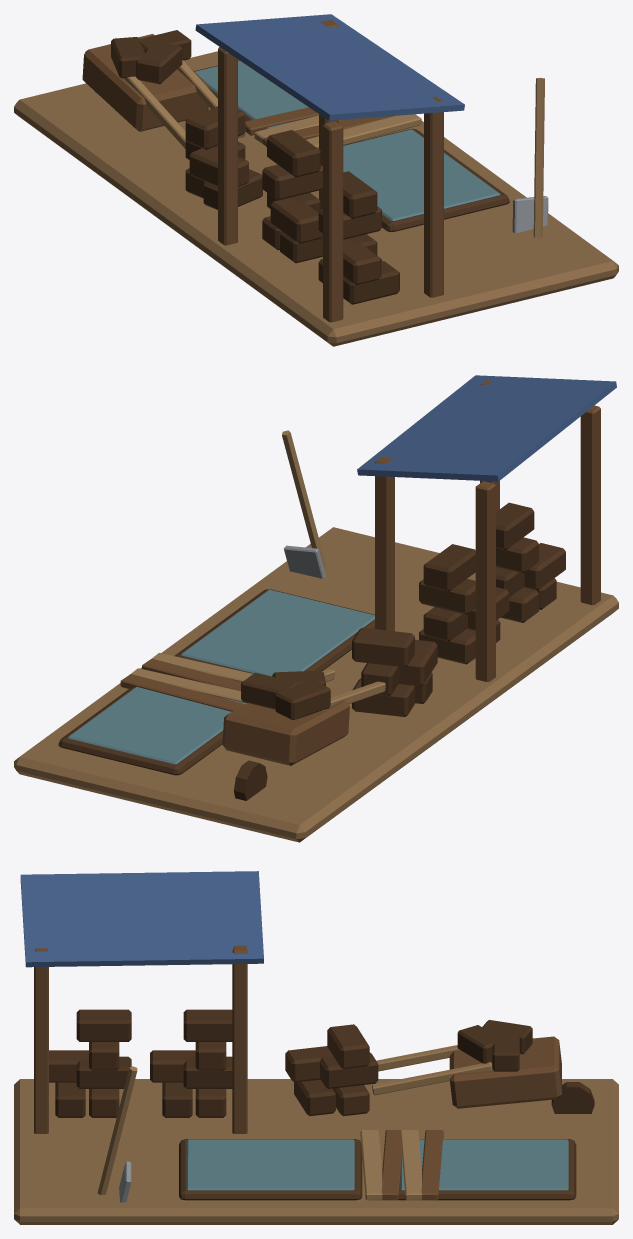
Rendered from peat_cut_l2.fbx.
3 views of the same model, one above another, from view 1: azimuth 30°, elevation 25°; view 2: azimuth 150°, elevation 25°; view 3: azimuth 270°, elevation 25° (orthographic). The views are drawn at different scales.
Parts seen in each view (by area): view 1: Building; view 2: Building; view 3: Building.
Boxes of the visible parts, x1,y1,x2,y2 form: Building: (14,14,618,346); Building: (14,375,618,842); Building: (14,871,618,1224).
Bounding box in the file's own units: 1.06 × 1.98 × 0.7949.
